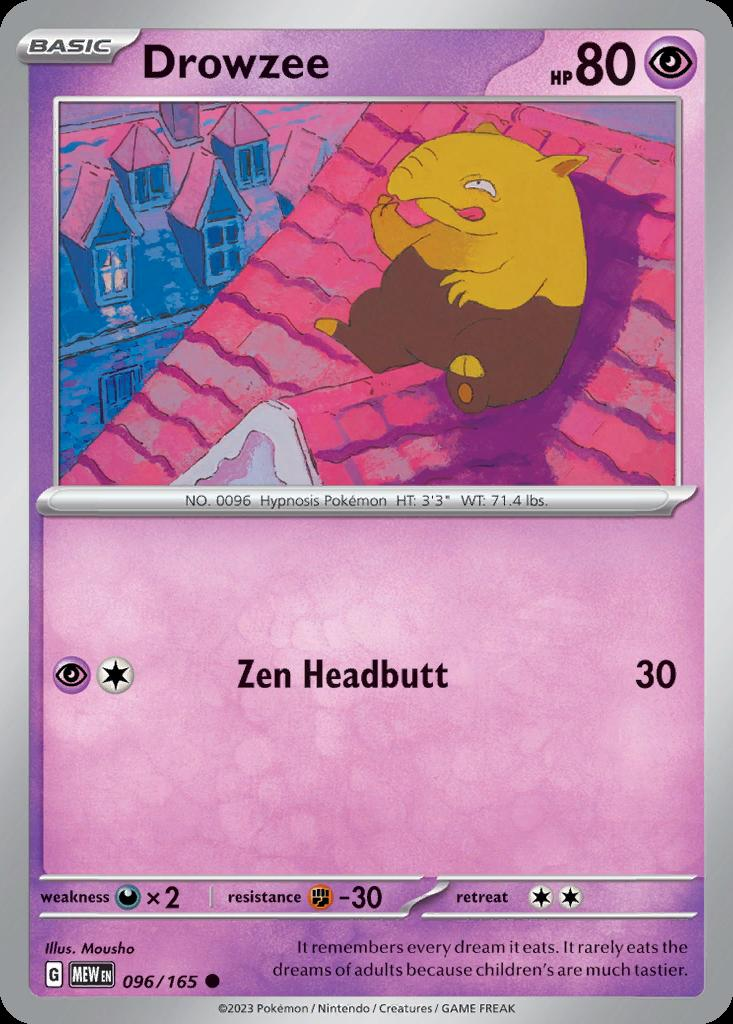card: (3, 7, 733, 1024)
hp: (530, 27, 706, 93)
name: (126, 21, 354, 99)
set num: (117, 963, 234, 996)
set symbol: (46, 961, 120, 994)
